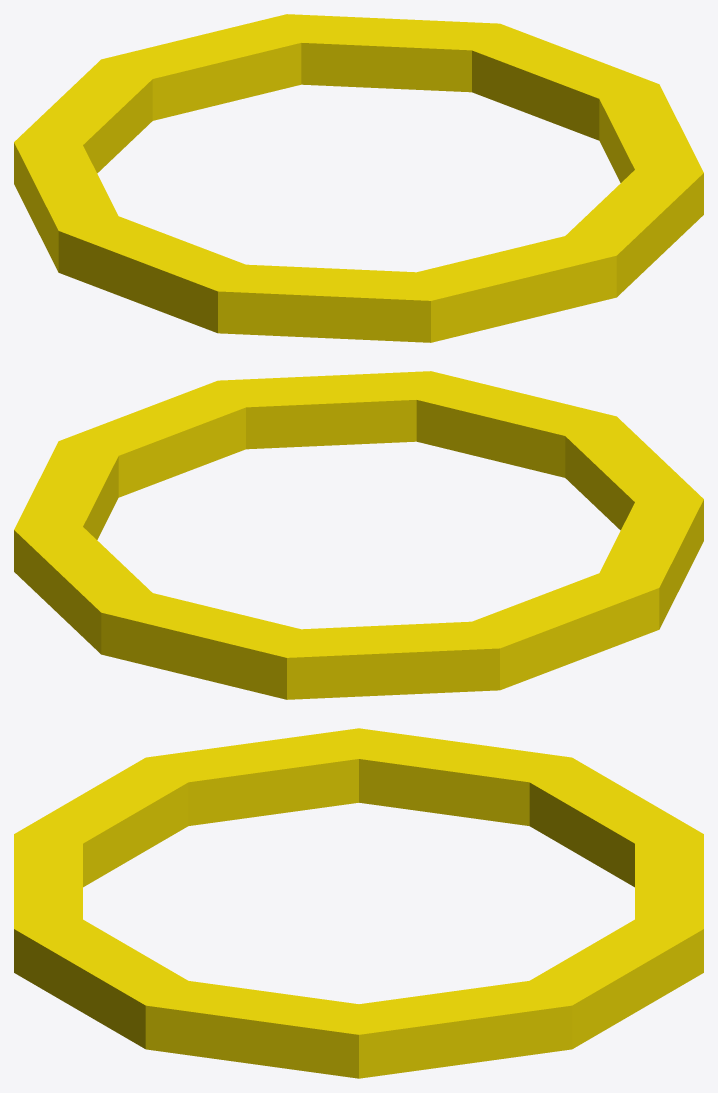
File: ringd171347f.glb
The picture shows the model from 3 angles, top to bottom: view 1: azimuth 30°, elevation 25°; view 2: azimuth 150°, elevation 25°; view 3: azimuth 270°, elevation 25°; orthographic projection. The views are drawn at different scales.
Visible parts, largest first — view 1: ring; view 2: ring; view 3: ring.
Part boxes in pixels (x1=…): ring: x1=14, y1=14, x2=703, y2=342; ring: x1=14, y1=371, x2=703, y2=699; ring: x1=14, y1=728, x2=703, y2=1078.
Bounding box in the file's own units: 3 × 0.2 × 2.85.
